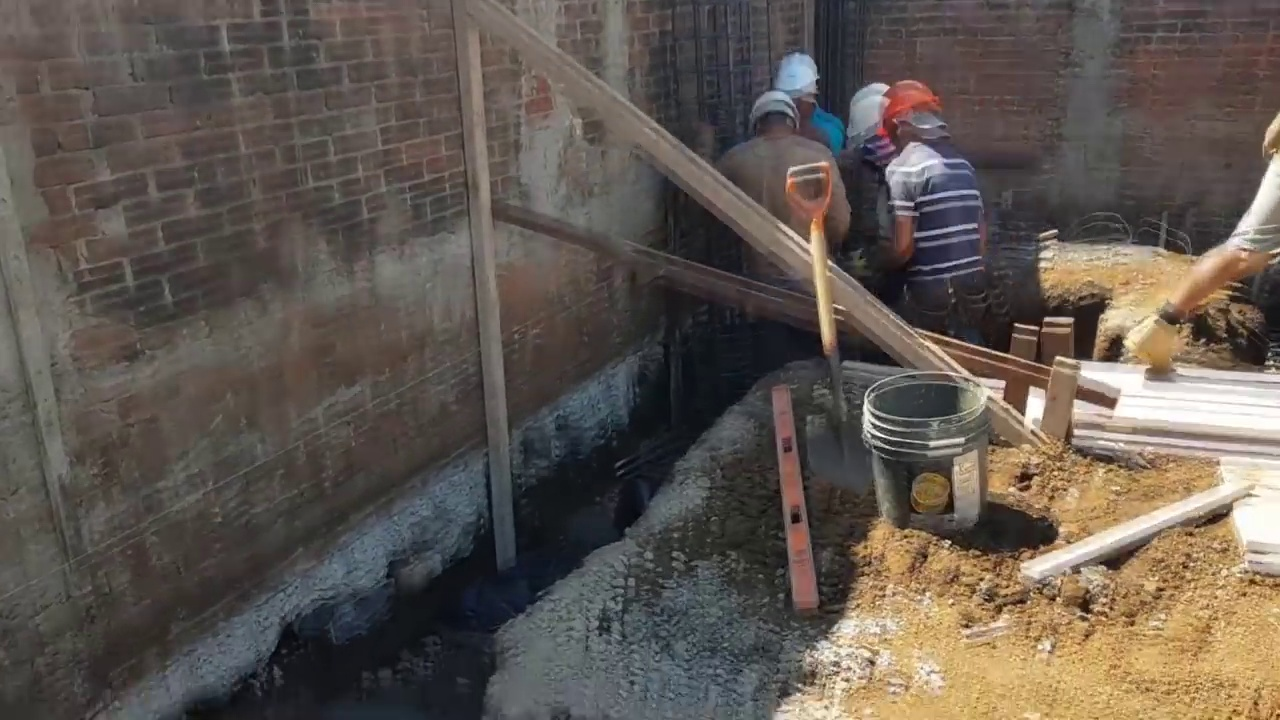helmet: (886, 79, 947, 130), (845, 85, 890, 142), (743, 90, 800, 132), (776, 54, 820, 96)
helmet-on: (888, 77, 948, 156), (843, 82, 892, 164), (742, 86, 801, 146), (776, 53, 819, 128)
person: (1127, 116, 1280, 381), (710, 87, 848, 378), (883, 77, 995, 344), (841, 82, 909, 272), (775, 54, 846, 168)
